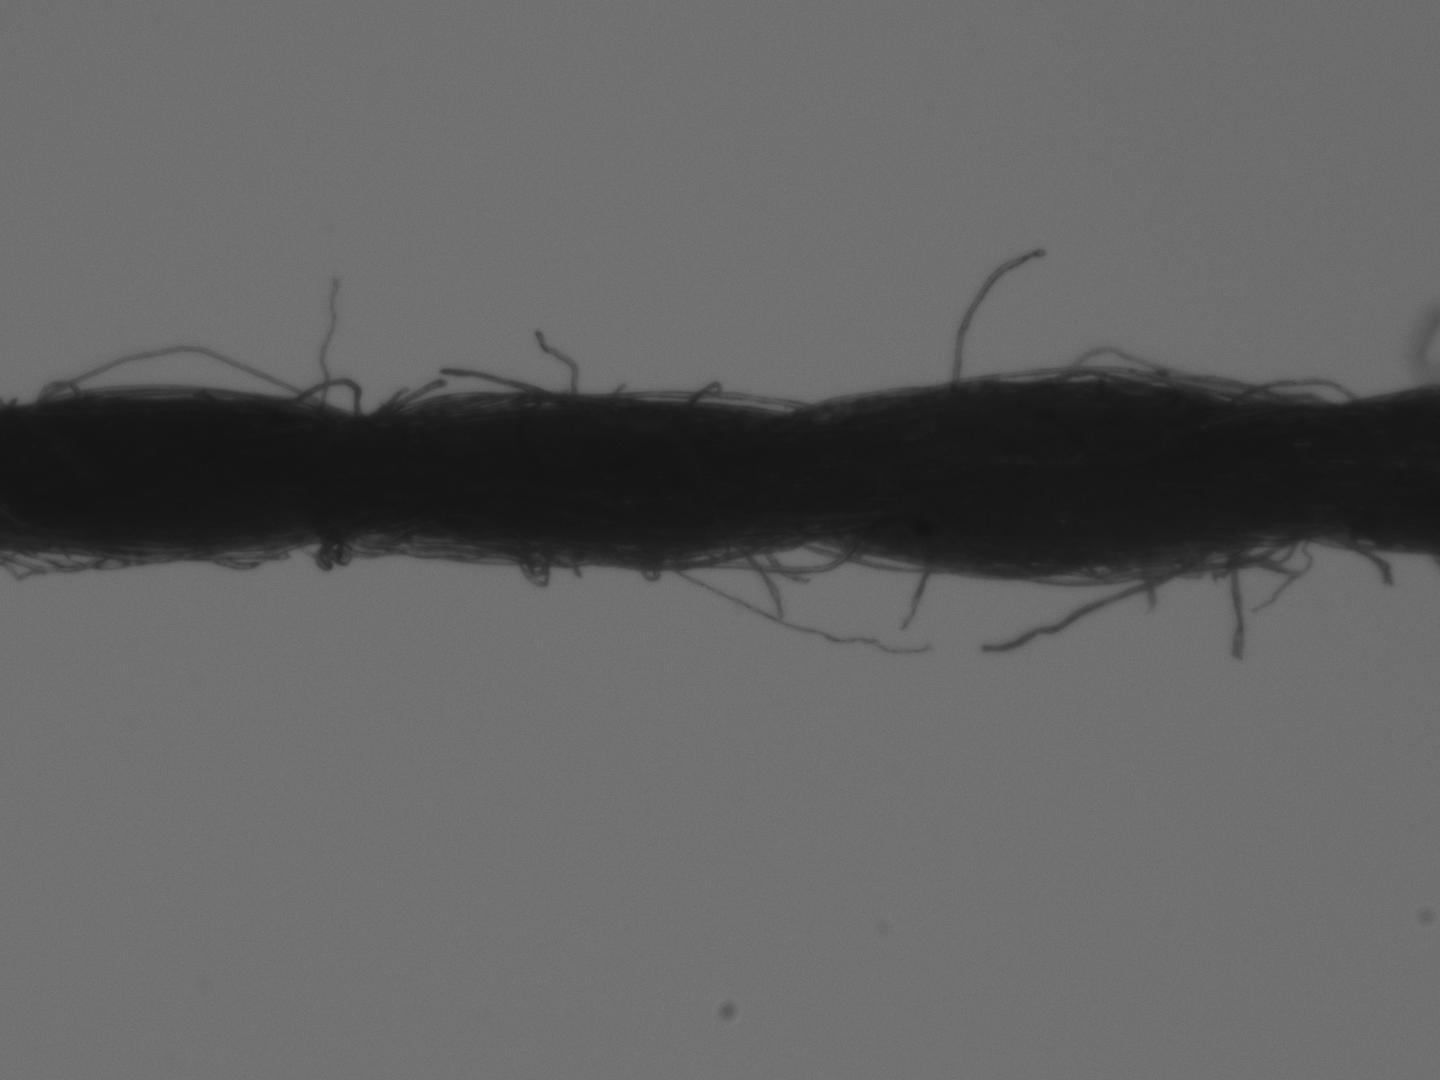loop_fiber: (1048, 341, 1214, 400), (677, 537, 873, 575), (1154, 535, 1319, 577), (491, 543, 590, 594), (1014, 555, 1149, 589), (1223, 374, 1366, 406), (310, 529, 405, 574), (282, 373, 363, 420), (28, 373, 77, 413)
protruding_fiber: (950, 244, 1048, 397)
